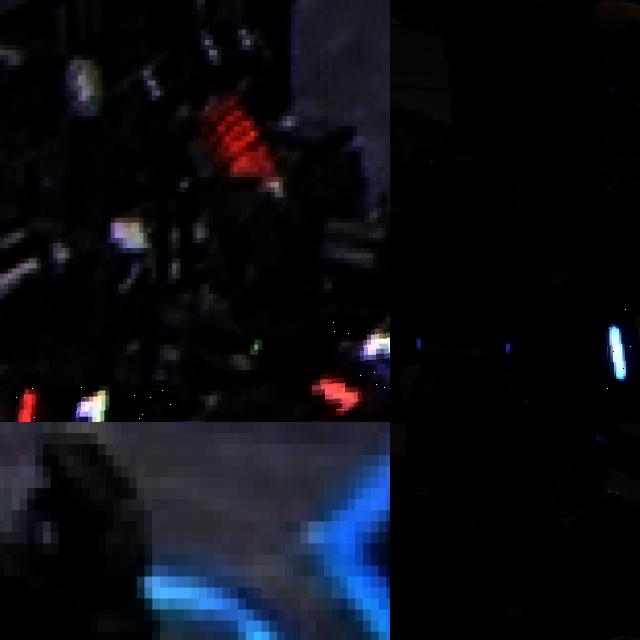Bs: (605, 303, 640, 391)
R1: (311, 309, 390, 410), (12, 385, 180, 422)
